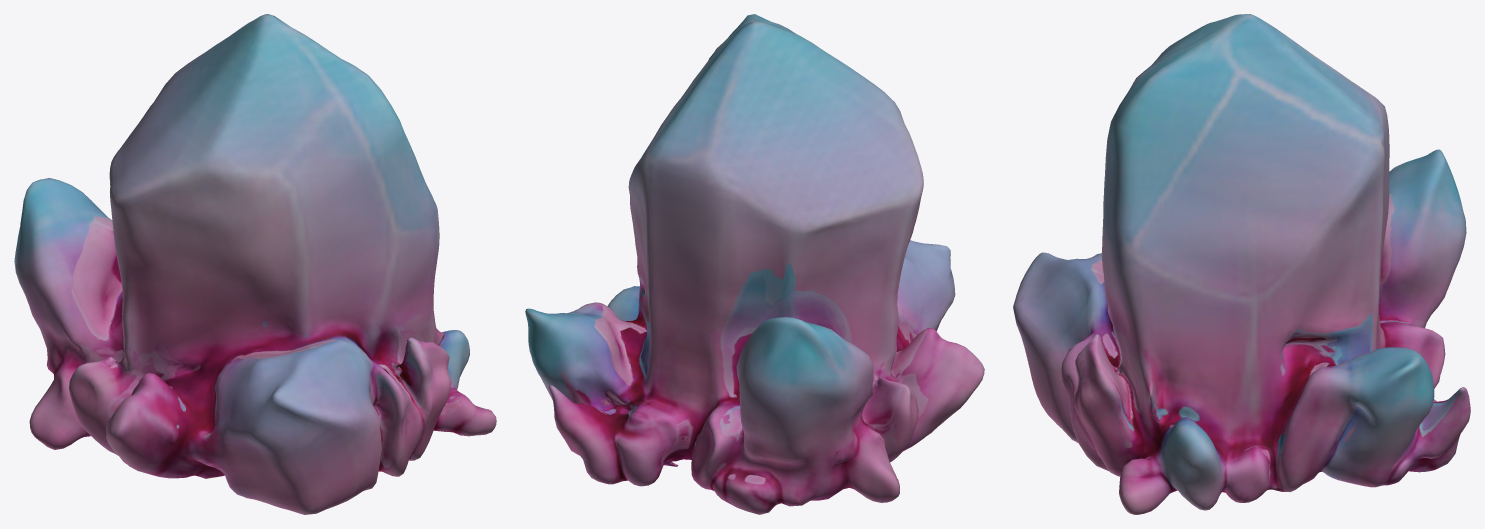
Rendered from d5054a2b0b05_large_crystal__incr.fbx.
3 views of the same model, side by side, from view 1: azimuth 30°, elevation 25°; view 2: azimuth 150°, elevation 25°; view 3: azimuth 270°, elevation 25° (orthographic). The views are drawn at different scales.
Visible parts, largest first — view 1: mesh; view 2: mesh; view 3: mesh.
Part boxes in pixels (x1=…): mesh: x1=14, y1=14, x2=496, y2=514; mesh: x1=525, y1=14, x2=984, y2=514; mesh: x1=1013, y1=14, x2=1470, y2=514.
Bounding box in the file's own units: 91.22 × 99.64 × 96.62.
